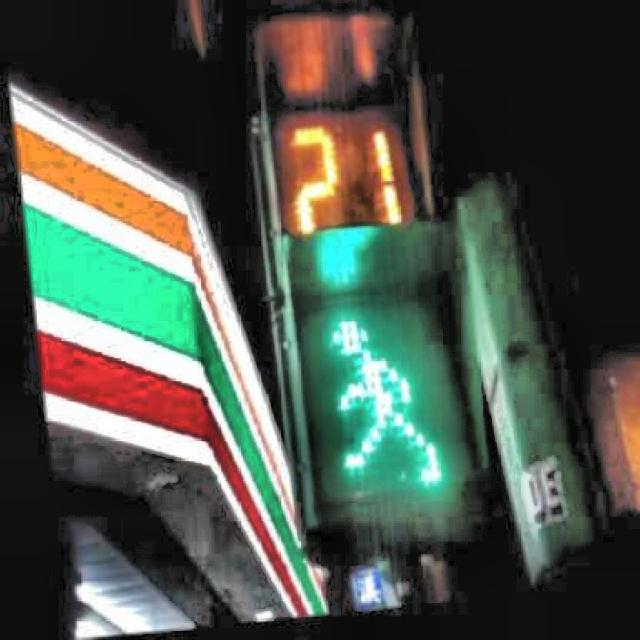semaforo pedestre: (154, 14, 566, 608)
